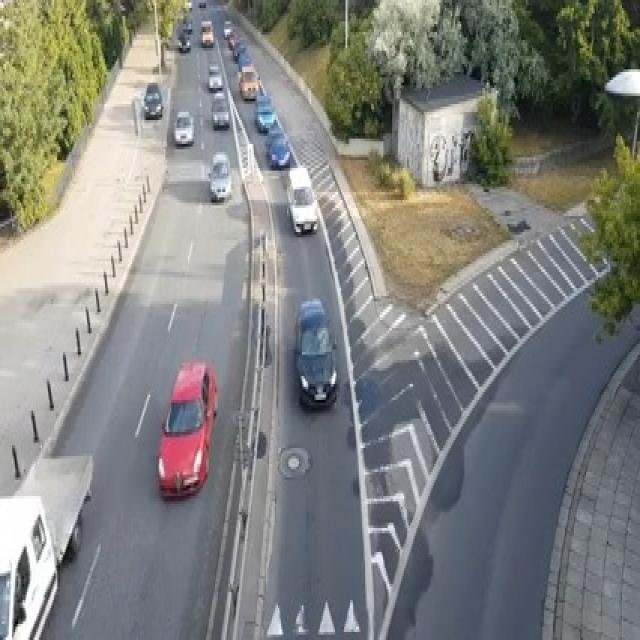bus: (0, 493, 59, 638)
car: (156, 360, 218, 499), (293, 296, 336, 408), (285, 165, 317, 235), (208, 152, 232, 200), (266, 131, 290, 168), (254, 93, 276, 131), (173, 109, 194, 144), (143, 80, 162, 117), (238, 64, 258, 99), (210, 91, 228, 128), (208, 61, 222, 91), (200, 19, 213, 45), (232, 40, 246, 61), (227, 27, 240, 48), (177, 32, 191, 51), (238, 51, 252, 69), (222, 19, 233, 37), (182, 13, 192, 32), (186, 0, 192, 11), (198, 0, 206, 8)
